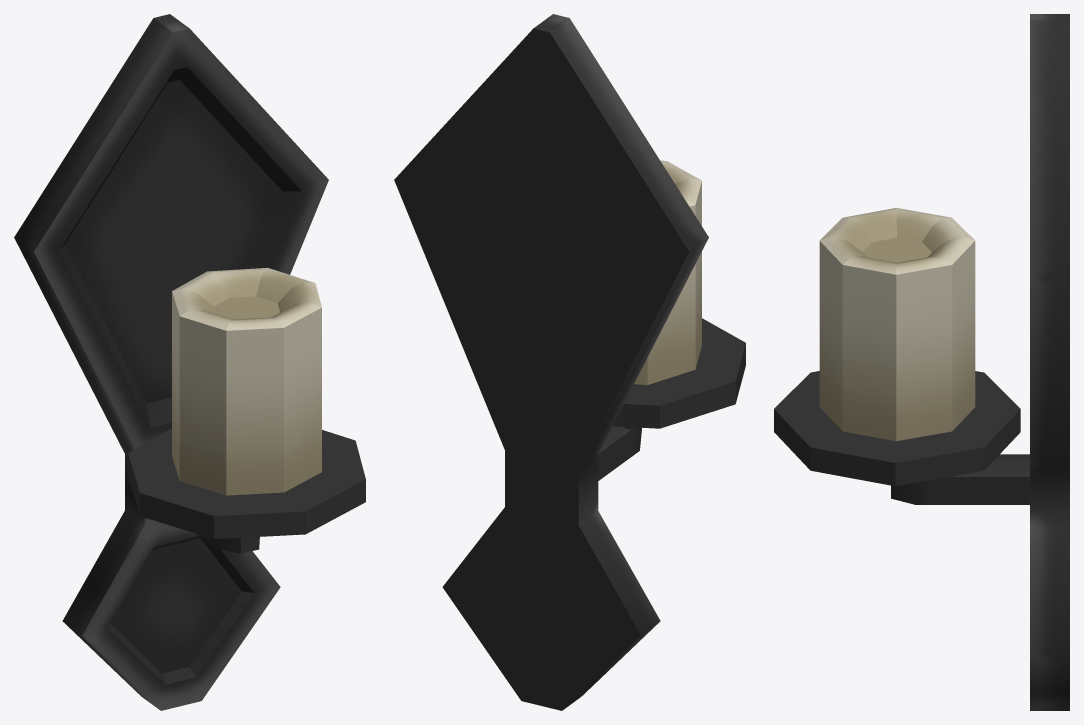
The model's file is texturedCandle.fbx.
3 views of the same model, side by side, from view 1: azimuth 30°, elevation 25°; view 2: azimuth 150°, elevation 25°; view 3: azimuth 270°, elevation 25° (orthographic).
Visible parts, largest first — view 1: pCube1; view 2: pCube1; view 3: pCube1.
Part boxes in pixels (box(x1,y1,x2,y2)): pCube1: box(14, 14, 365, 710); pCube1: box(394, 14, 745, 710); pCube1: box(774, 14, 1069, 710).
Size of the model in its own units: 0.4574 by 1 by 0.3927.
